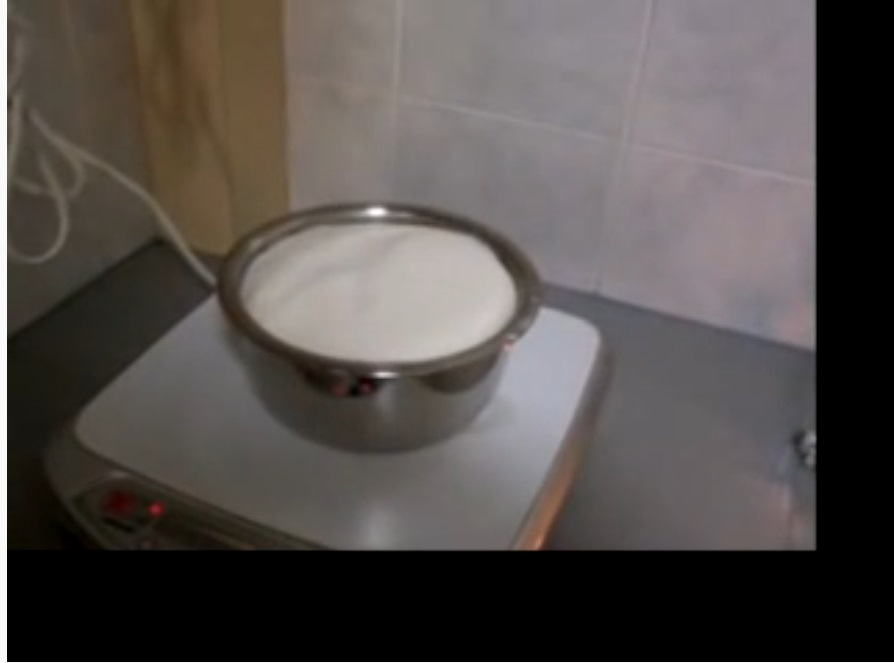Steaming: (184, 190, 555, 469)
